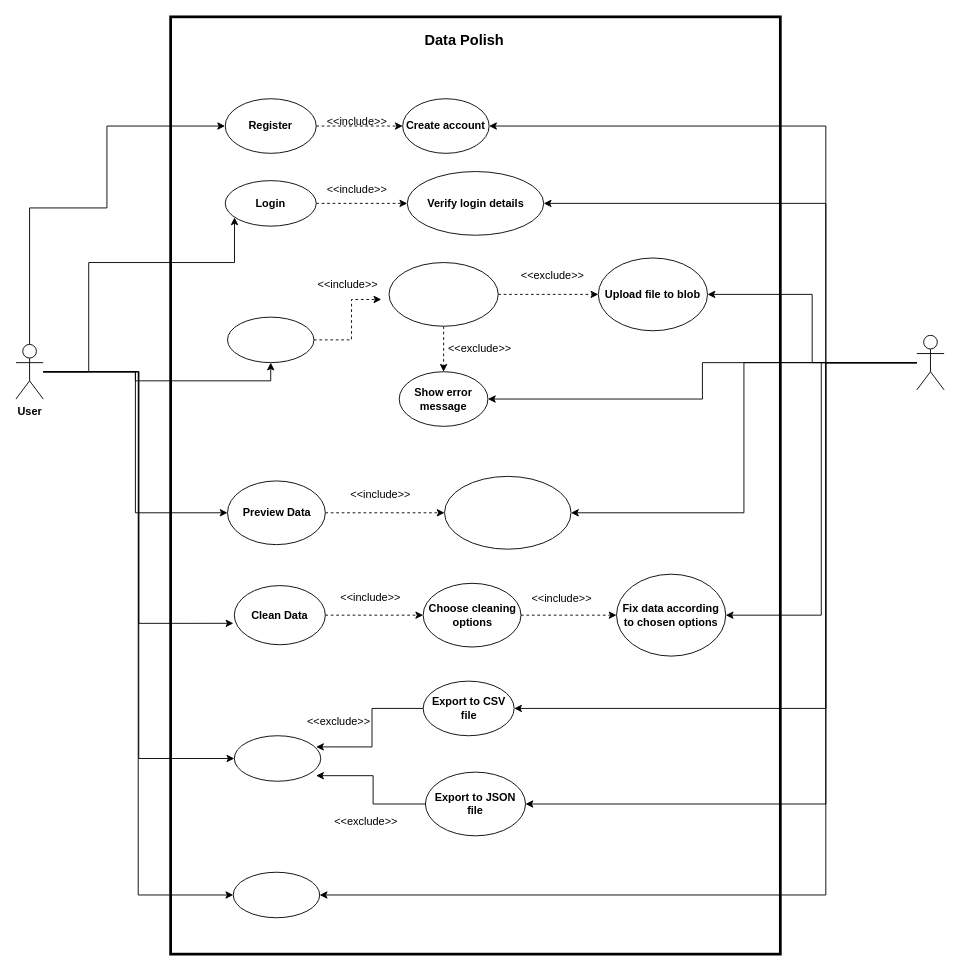
Some shapes in this 966 by 971 pixel diagram are drawn without their labels. Here are the shapes that lost their labels. From the top down, the centre of each, then its label:
the point at 443,294: Check file type and file not blank
the point at 270,339: Import Data
the point at 930,362: System
the point at 507,512: Show first 100 rows
the point at 277,758: Export Data
the point at 276,894: Job Status
